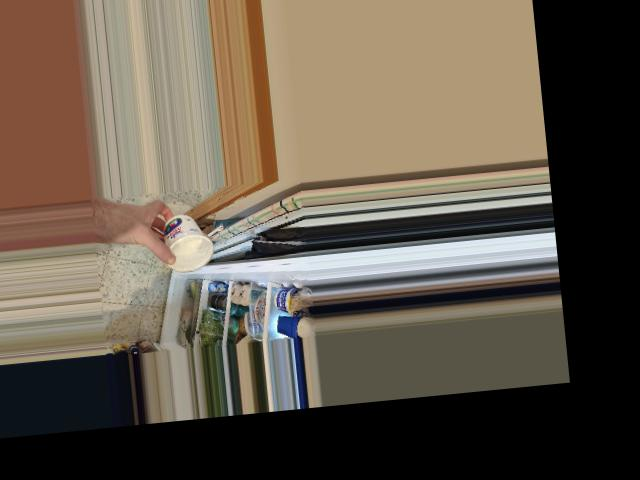cotage: (159, 212, 210, 272)
